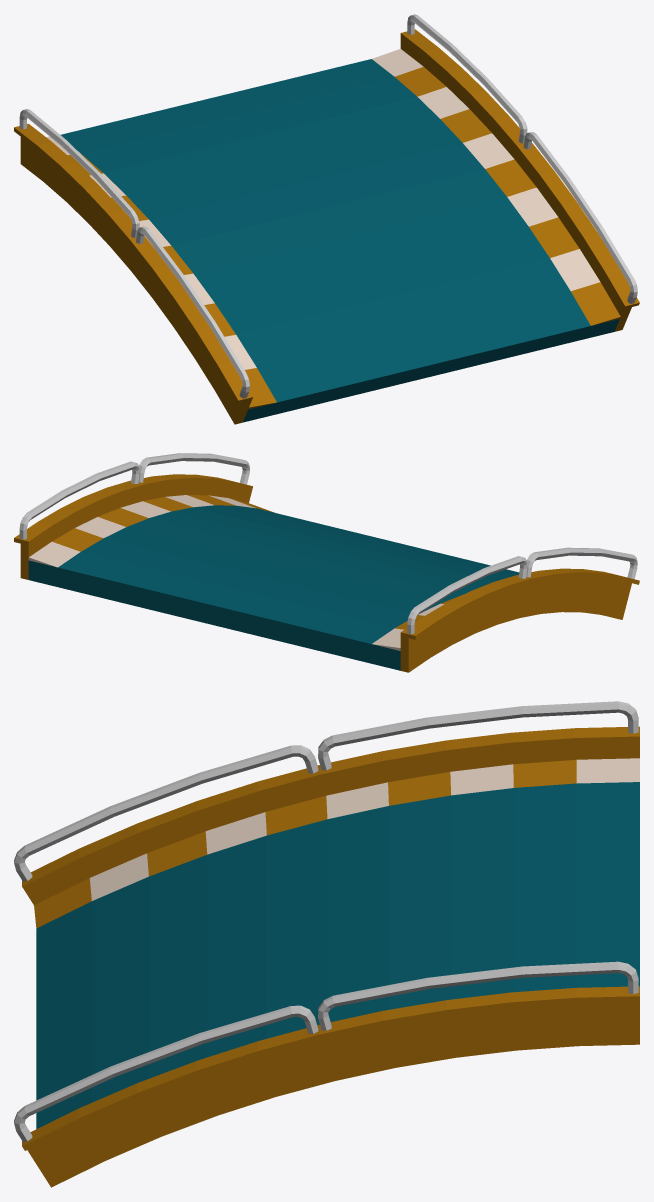
Rendered from descent-30_s.FBX.
The picture shows the model from 3 angles, top to bottom: view 1: azimuth 30°, elevation 25°; view 2: azimuth 150°, elevation 25°; view 3: azimuth 270°, elevation 25°; orthographic projection. The views are drawn at different scales.
Visible parts, largest first — view 1: descent-30_s, wall_r, wall_l, curbs_l, curbs_r; view 2: descent-30_s, wall_r, wall_l, curbs_l, curbs_r; view 3: descent-30_s, wall_l, wall_r, curbs_r.
Part boxes in pixels (<box>): descent-30_s: <box>61,59,619,422</box>; wall_r: <box>14,109,252,424</box>; wall_l: <box>400,14,639,331</box>; curbs_l: <box>372,49,620,325</box>; curbs_r: <box>46,136,276,409</box>; descent-30_s: <box>28,505,602,670</box>; wall_r: <box>400,547,639,672</box>; wall_l: <box>14,453,252,579</box>; curbs_l: <box>28,495,273,567</box>; curbs_r: <box>372,595,461,650</box>; descent-30_s: <box>36,782,639,1128</box>; wall_l: <box>14,961,639,1187</box>; wall_r: <box>14,701,639,905</box>; curbs_r: <box>34,758,639,928</box>.
Size of what is drawn, in the model's own units: 207 by 80.43 by 203.
